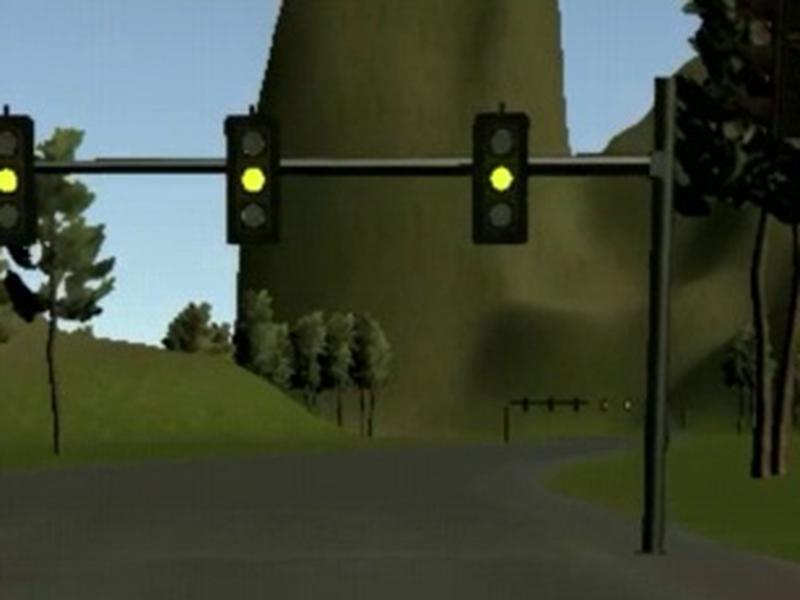Yellow: (471, 111, 529, 246), (226, 116, 282, 244), (1, 114, 35, 246)
